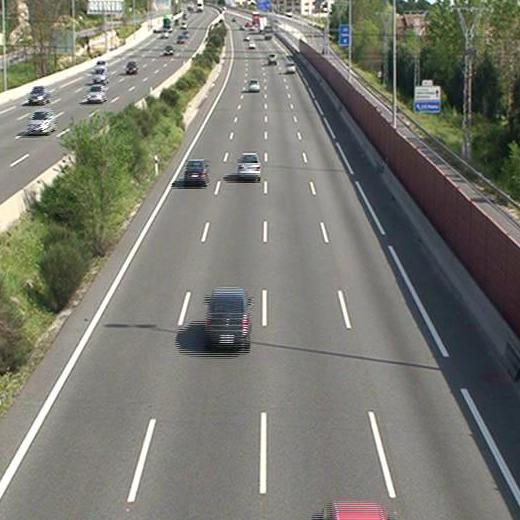car: (205, 289, 250, 346), (183, 158, 209, 185), (237, 152, 261, 179), (247, 78, 259, 91), (286, 62, 296, 71), (268, 54, 277, 63)
